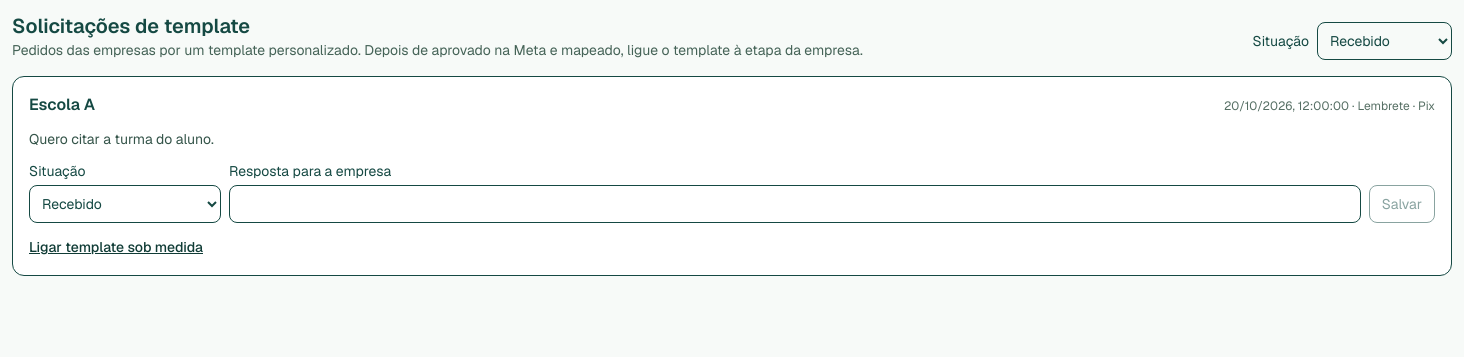
TemplateRequestsAdmin › reloads on a conflict instead of overwriting
Select "Concluído" in the dropdown named "Situação do pedido de Escola A": (125,204) [29, 185, 221, 223]
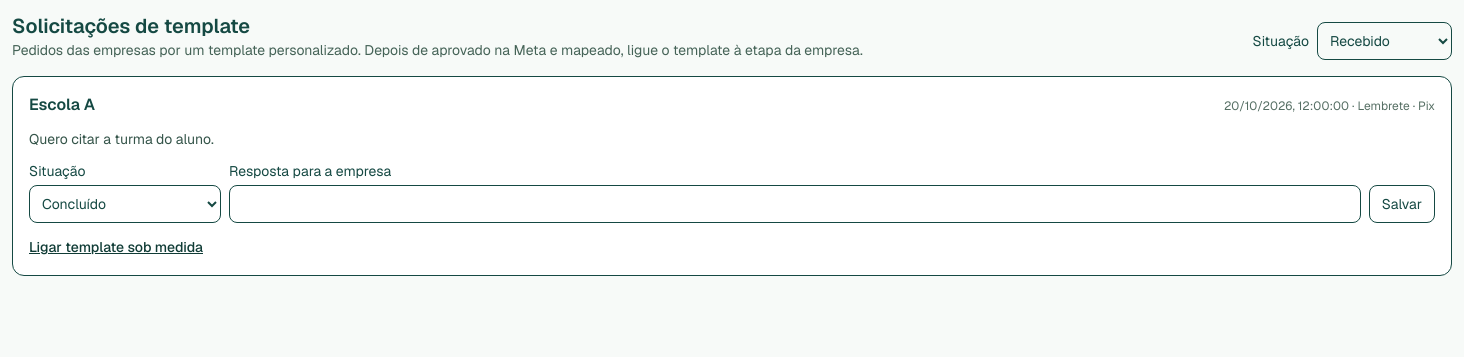
Click the button "Salvar": (1402,204) [1369, 185, 1435, 223]
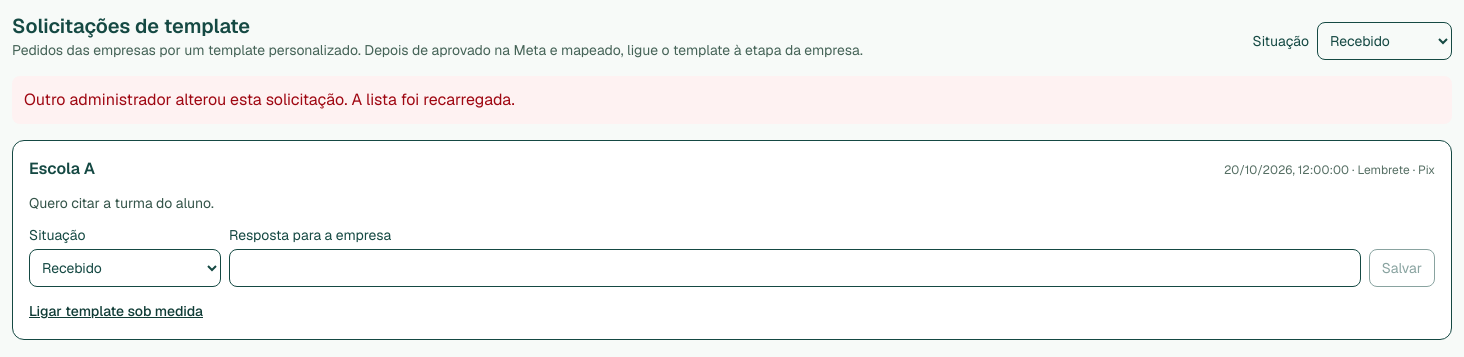
Now the message shows "Outro administrador", box [24, 89, 515, 110]
